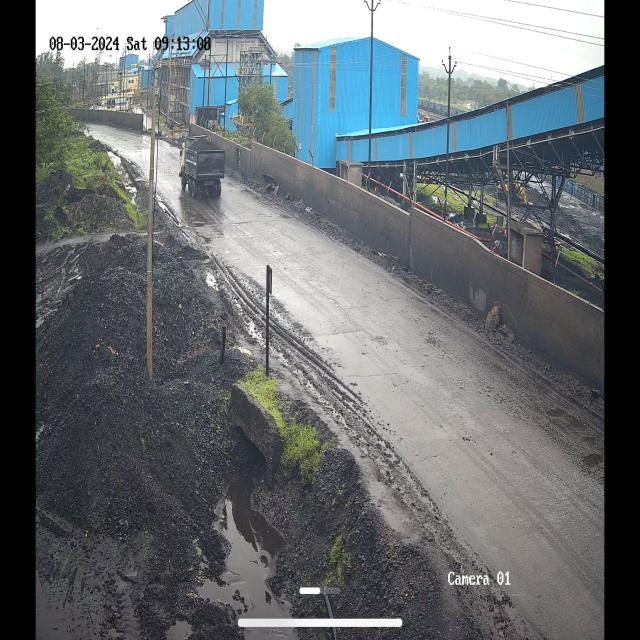dump_truck: (176, 129, 225, 202)
